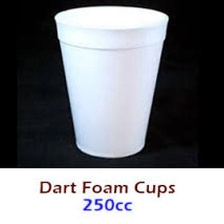paper_cup: (48, 0, 172, 163)
